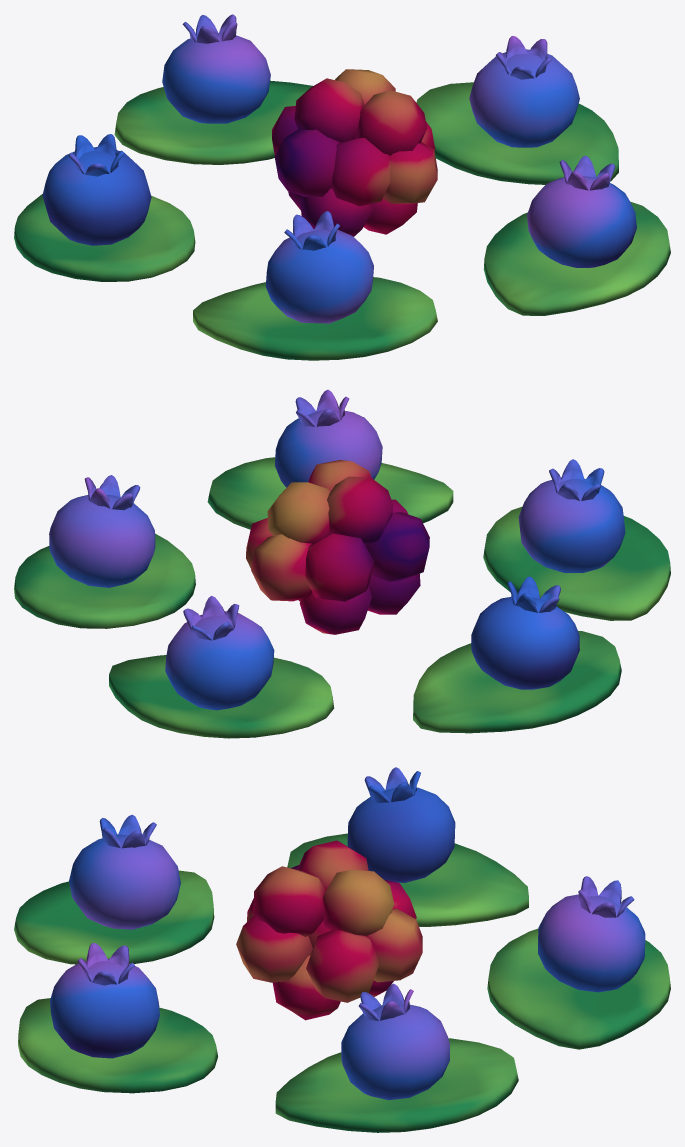
The model's file is Supper.fbx.
The picture shows the model from 3 angles, top to bottom: view 1: azimuth 30°, elevation 25°; view 2: azimuth 150°, elevation 25°; view 3: azimuth 270°, elevation 25°; orthographic projection. The views are drawn at different scales.
Parts seen in each view (by area): view 1: Supper; view 2: Supper; view 3: Supper.
Part boxes in pixels (x1=…): Supper: x1=14, y1=14, x2=670, y2=360; Supper: x1=14, y1=389, x2=670, y2=738; Supper: x1=14, y1=767, x2=670, y2=1132.
Bounding box in the file's own units: 0.2593 × 0.2522 × 0.0639.
Materials: 1 (1 with a texture image).
